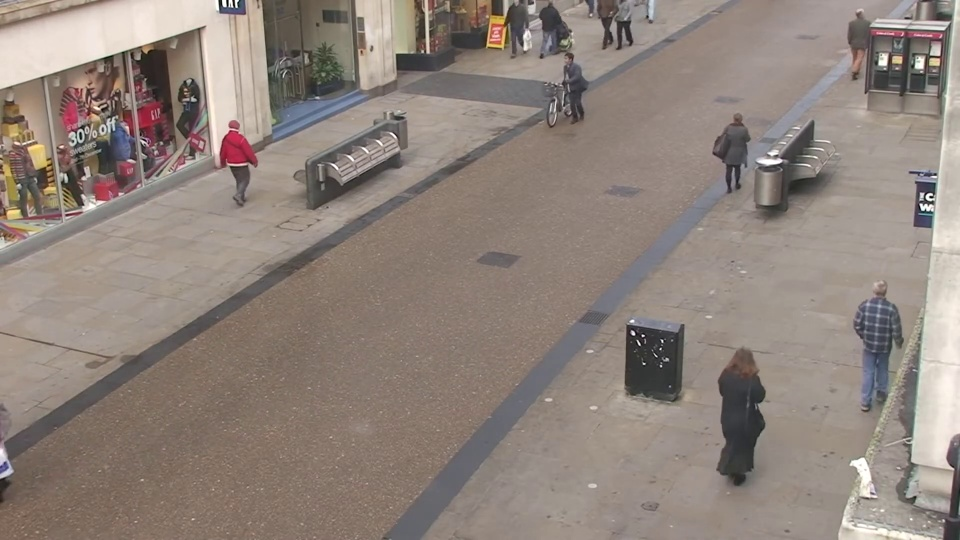pedestrian: (716, 337, 771, 491), (851, 269, 906, 407), (224, 113, 260, 206), (720, 107, 753, 201), (842, 3, 873, 73), (554, 51, 580, 129)
